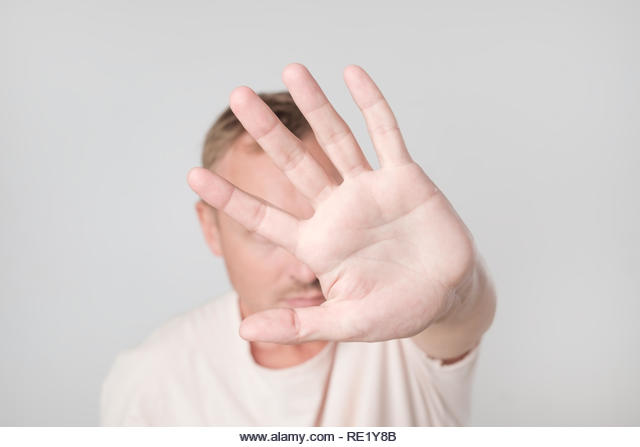hand: (183, 44, 506, 362)
